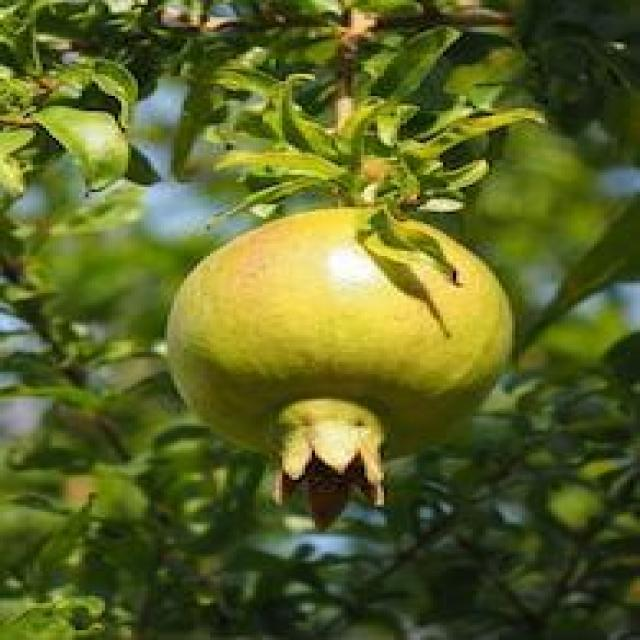Pomegranate: (164, 203, 523, 528)
